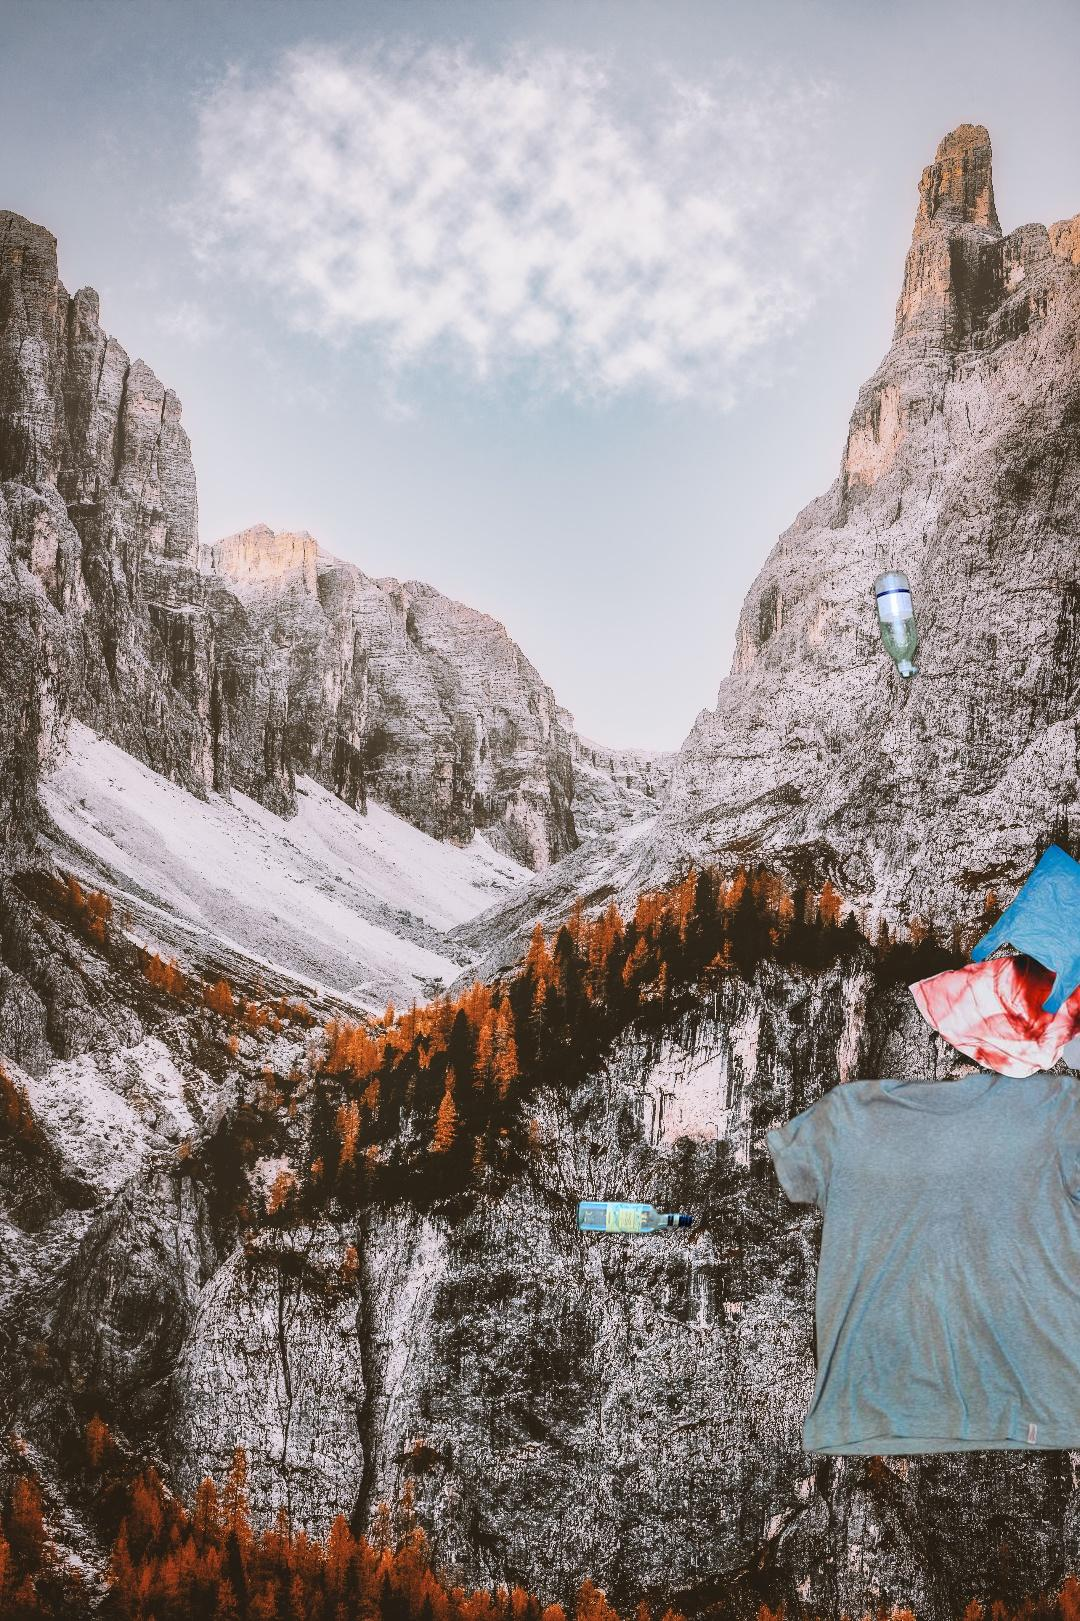clothes: (762, 1065, 1080, 1468)
glass: (571, 1077, 796, 1240)
metal-cans: (340, 1399, 818, 1621)
plastic-bag: (906, 842, 1080, 1082)
plastic-bottles: (870, 566, 923, 686)
